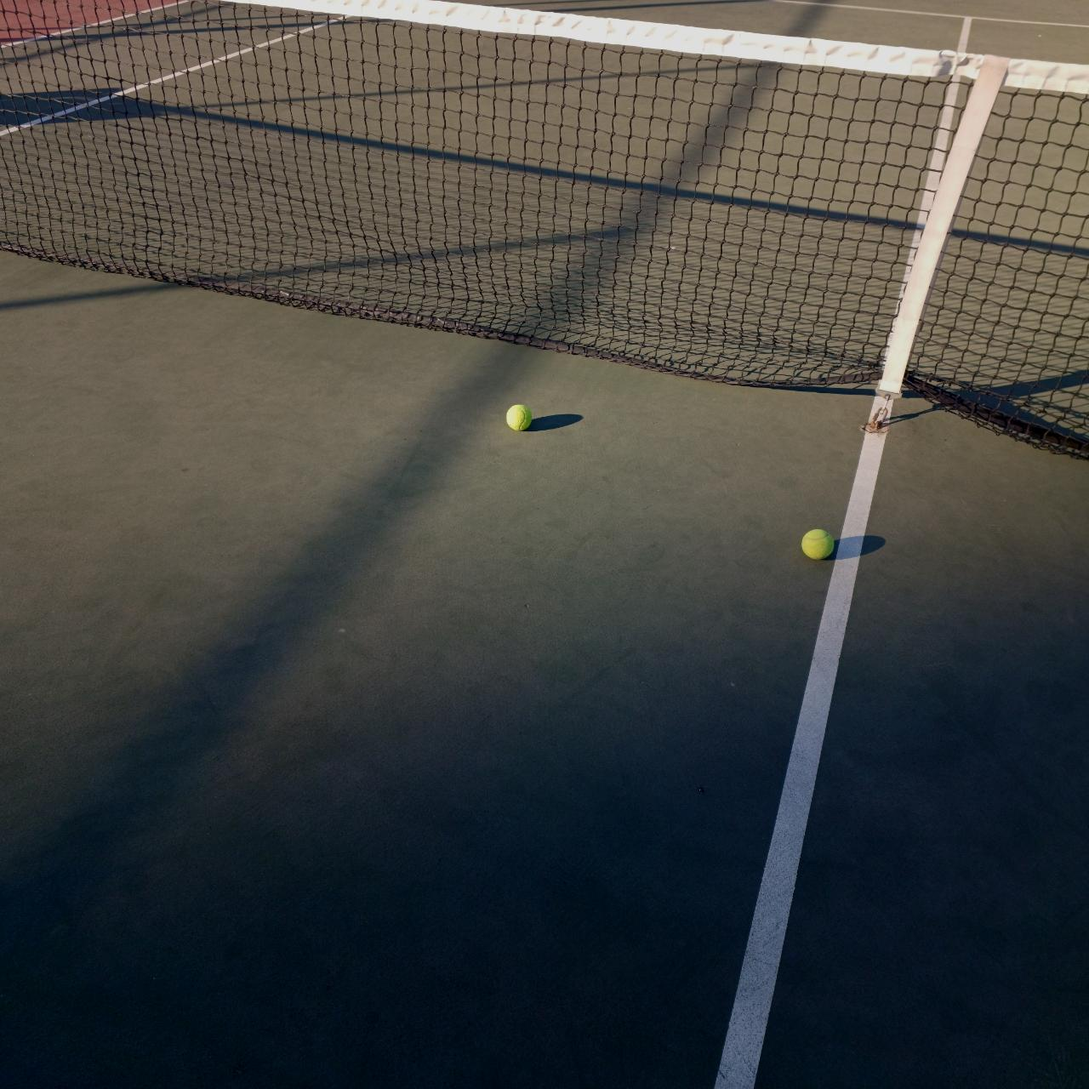tennis-ball: (800, 525, 836, 561), (505, 401, 535, 432)
